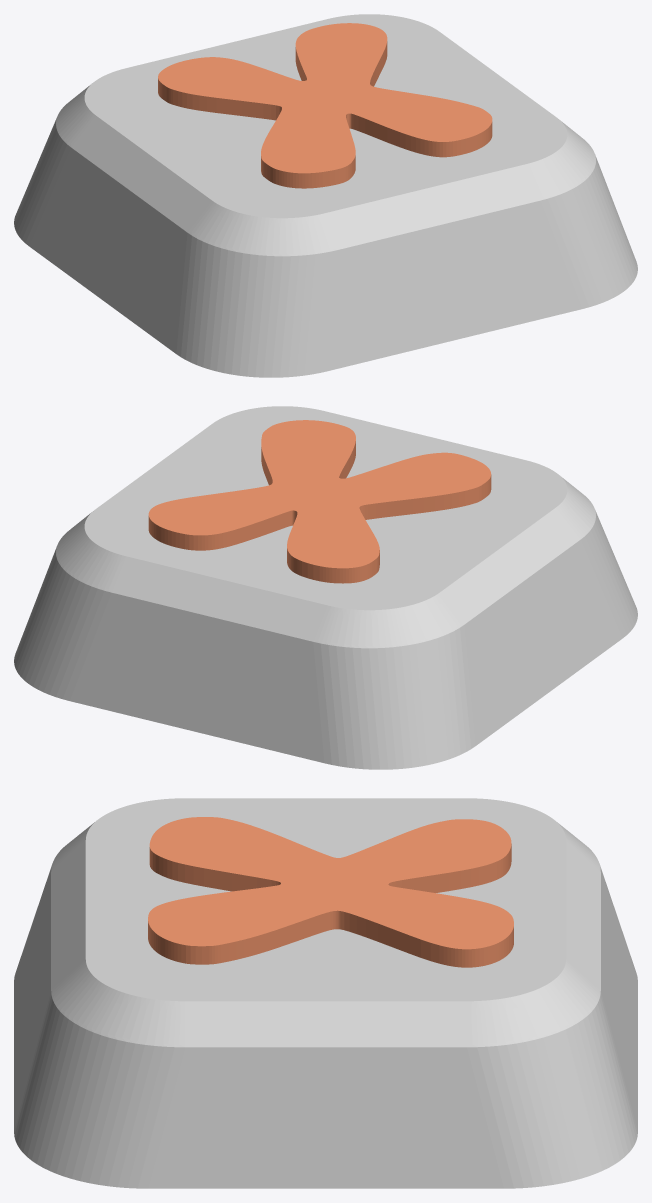
File: cap-X.glb
3 renders of one model, top to bottom at view 1: azimuth 30°, elevation 25°; view 2: azimuth 150°, elevation 25°; view 3: azimuth 270°, elevation 25°, orthographic. The views are drawn at different scales.
Visible parts, largest first — view 1: cap_0, glyph_1; view 2: cap_0, glyph_1; view 3: cap_0, glyph_1.
Boxes of the visible parts, bbox=[...] form: cap_0: bbox=[14, 14, 637, 377]; glyph_1: bbox=[158, 23, 492, 188]; cap_0: bbox=[14, 406, 637, 769]; glyph_1: bbox=[148, 420, 491, 583]; cap_0: bbox=[14, 798, 637, 1188]; glyph_1: bbox=[148, 817, 513, 967].
Size of the model in its own units: 18 by 5.59 by 18.
